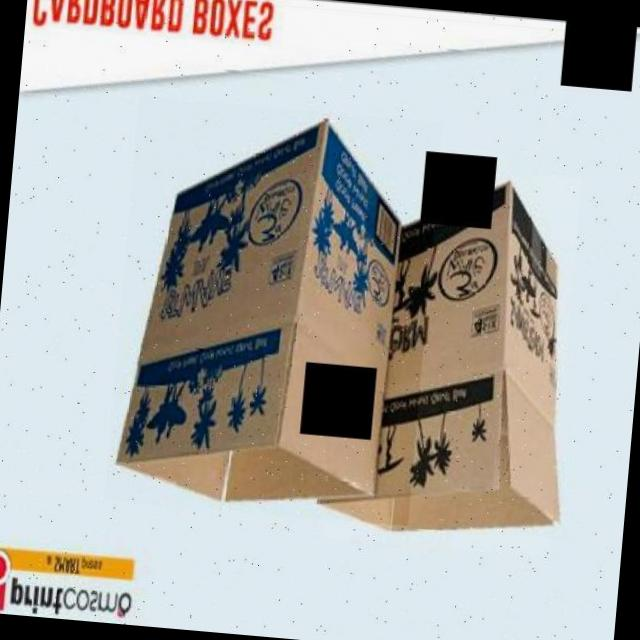box: (104, 95, 442, 526), (320, 159, 582, 558)
